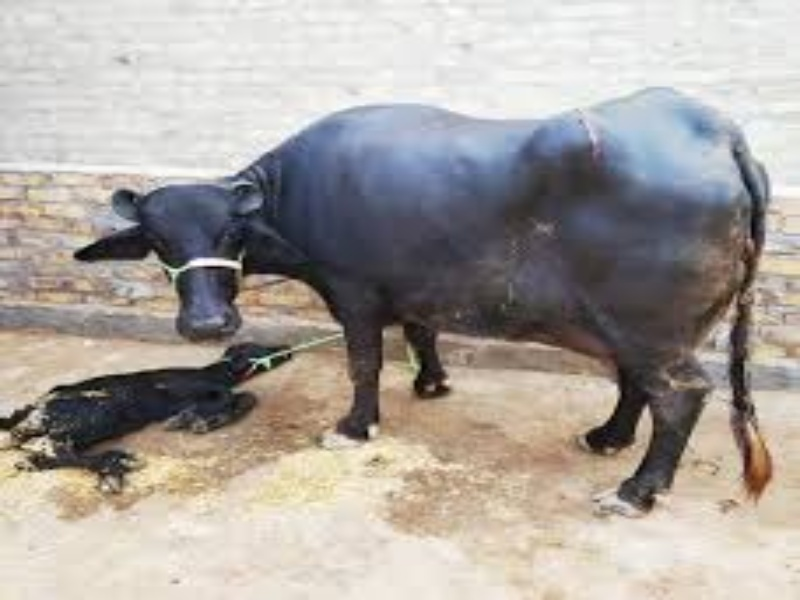buffalo: (81, 87, 777, 515)
